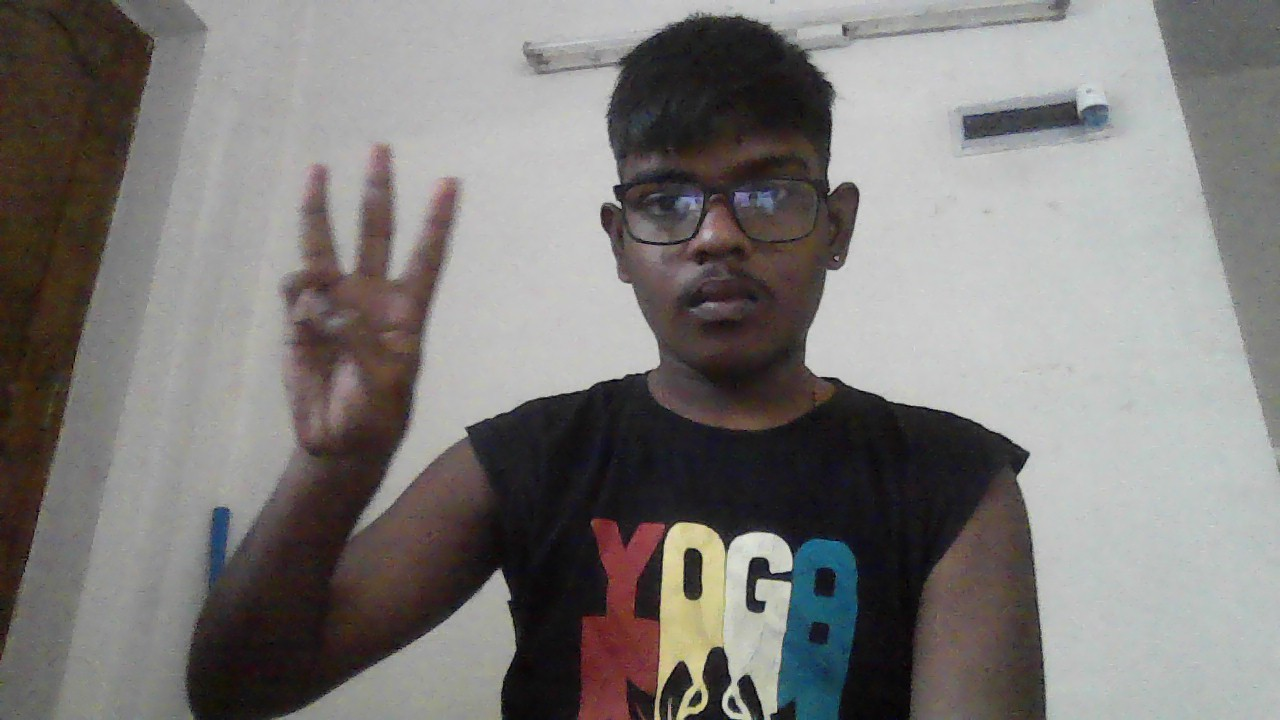W: (281, 145, 462, 448)
